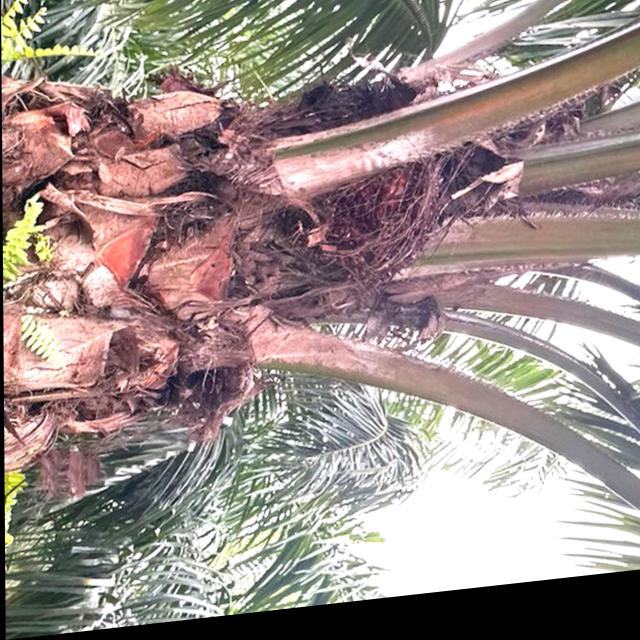ripe: (314, 144, 460, 287)
